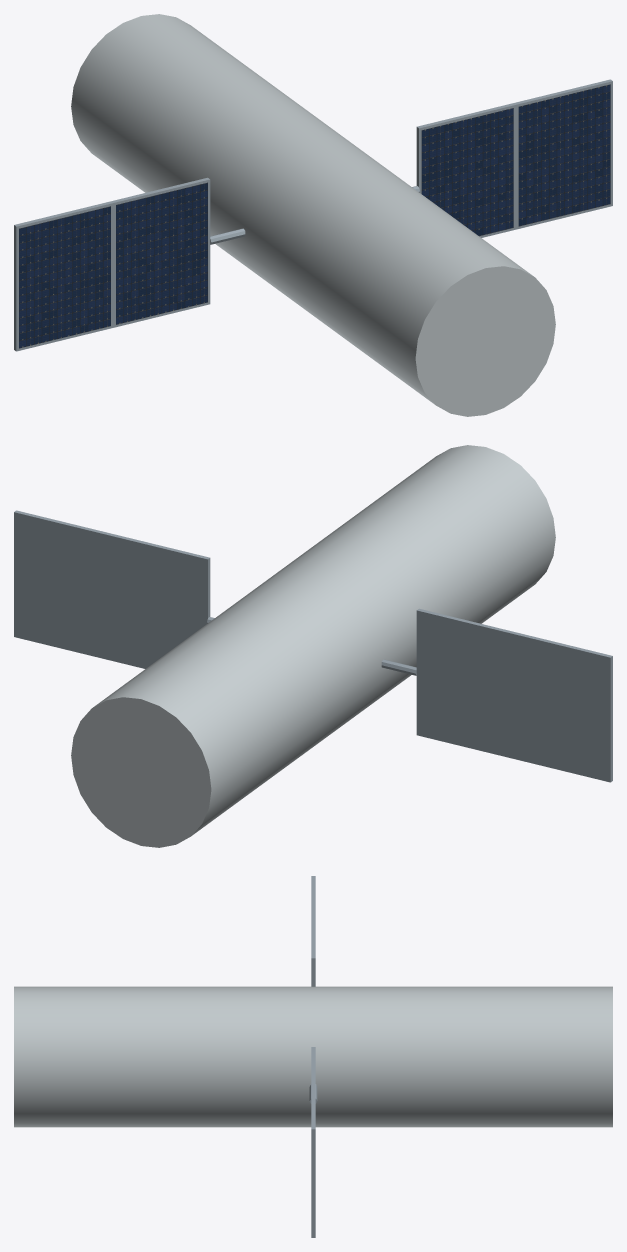
File: ref-tselina-om-3526.glb
The picture shows the model from 3 angles, top to bottom: view 1: azimuth 30°, elevation 25°; view 2: azimuth 150°, elevation 25°; view 3: azimuth 270°, elevation 25°; orthographic projection. The views are drawn at different scales.
Visible parts, largest first — view 1: Spacecraft body, Photovoltaic laminates (×4), Array frame (×4); view 2: Spacecraft body, Array frame (×4); view 3: Spacecraft body, Array frame.
Part boxes in pixels (bbox=[...]): Spacecraft body: bbox=[71, 14, 555, 416]; Photovoltaic laminates (×4): bbox=[19, 84, 610, 348]; Array frame (×4): bbox=[14, 79, 612, 351]; Spacecraft body: bbox=[71, 445, 555, 847]; Array frame (×4): bbox=[14, 510, 612, 782]; Spacecraft body: bbox=[14, 986, 612, 1127]; Array frame: bbox=[311, 1088, 315, 1237].
Bounding box in the file's own units: 5.1 × 1.2 × 5.1.
3 materials, 1 textured.
